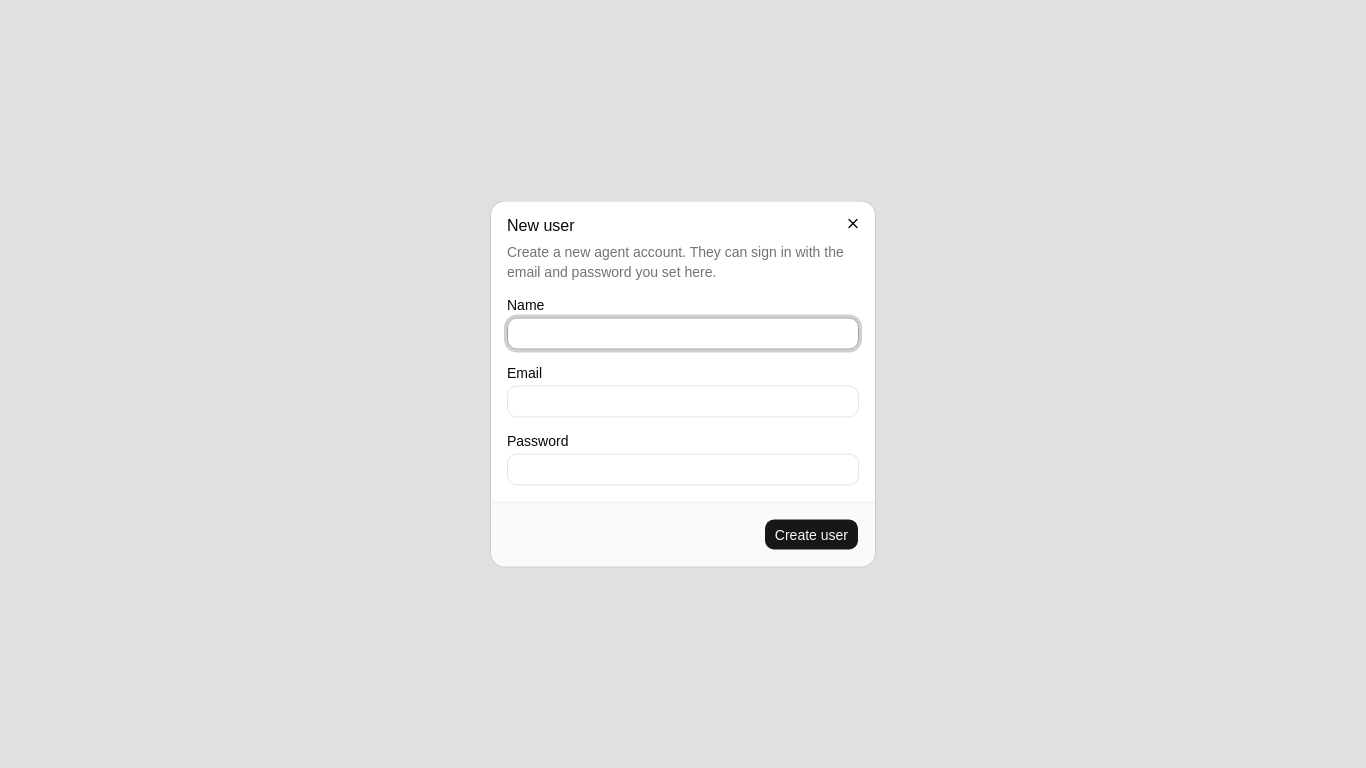
CreateUserDialog › shows the server error message when creation fails
The image size is (1366, 768).
In the field labelled "Name": (683,334) [507,318,859,350], type "Ada Lovelace"
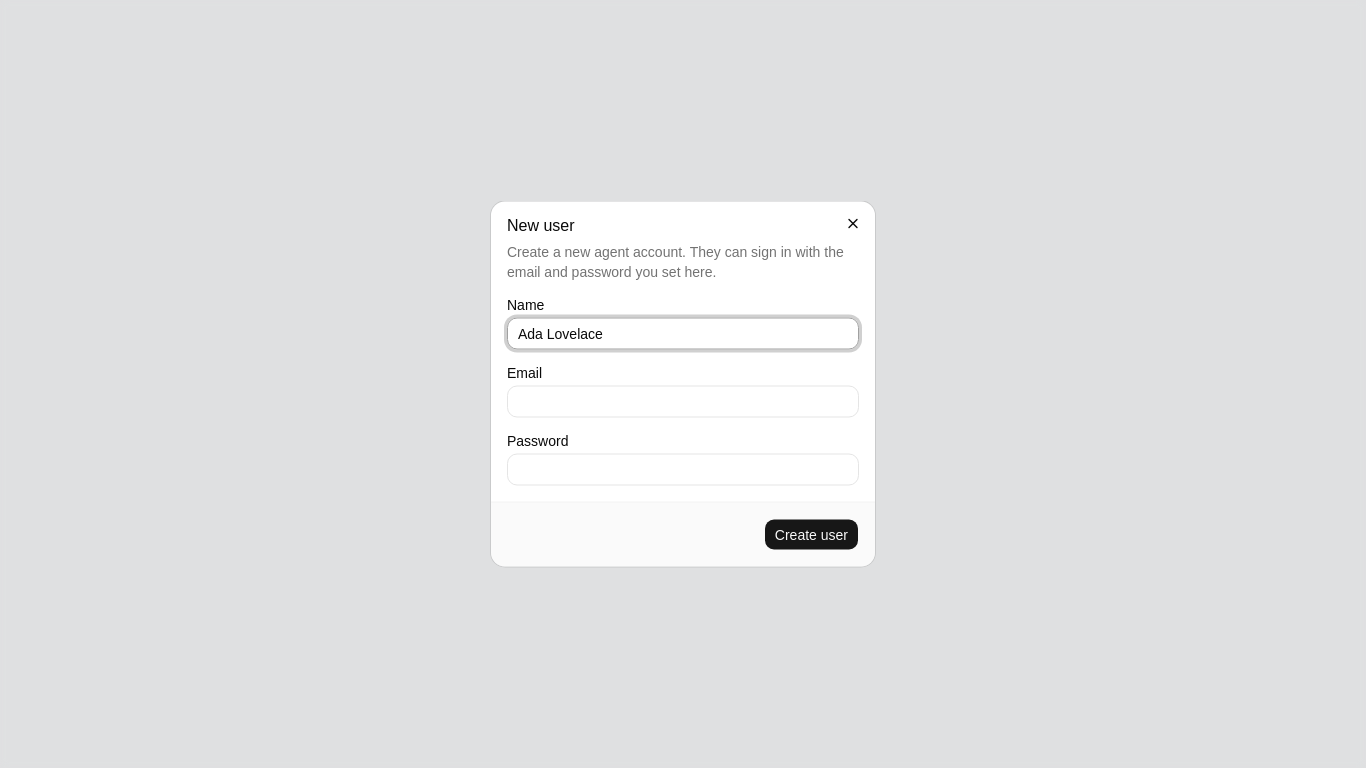
In the field labelled "Email": (683,402) [507,386,859,418], type "ada@example.com"
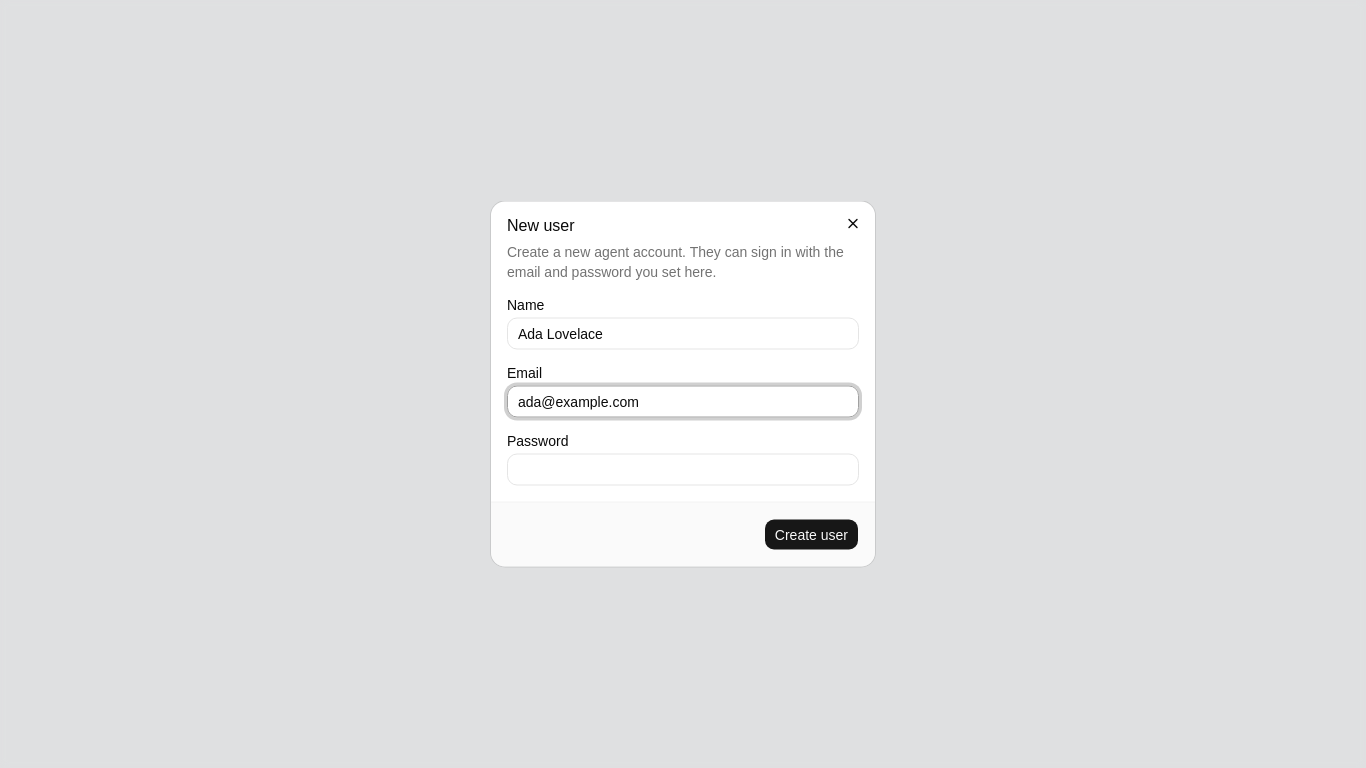
In the password field labelled "Password": (683,470) [507,454,859,486], type "password123"
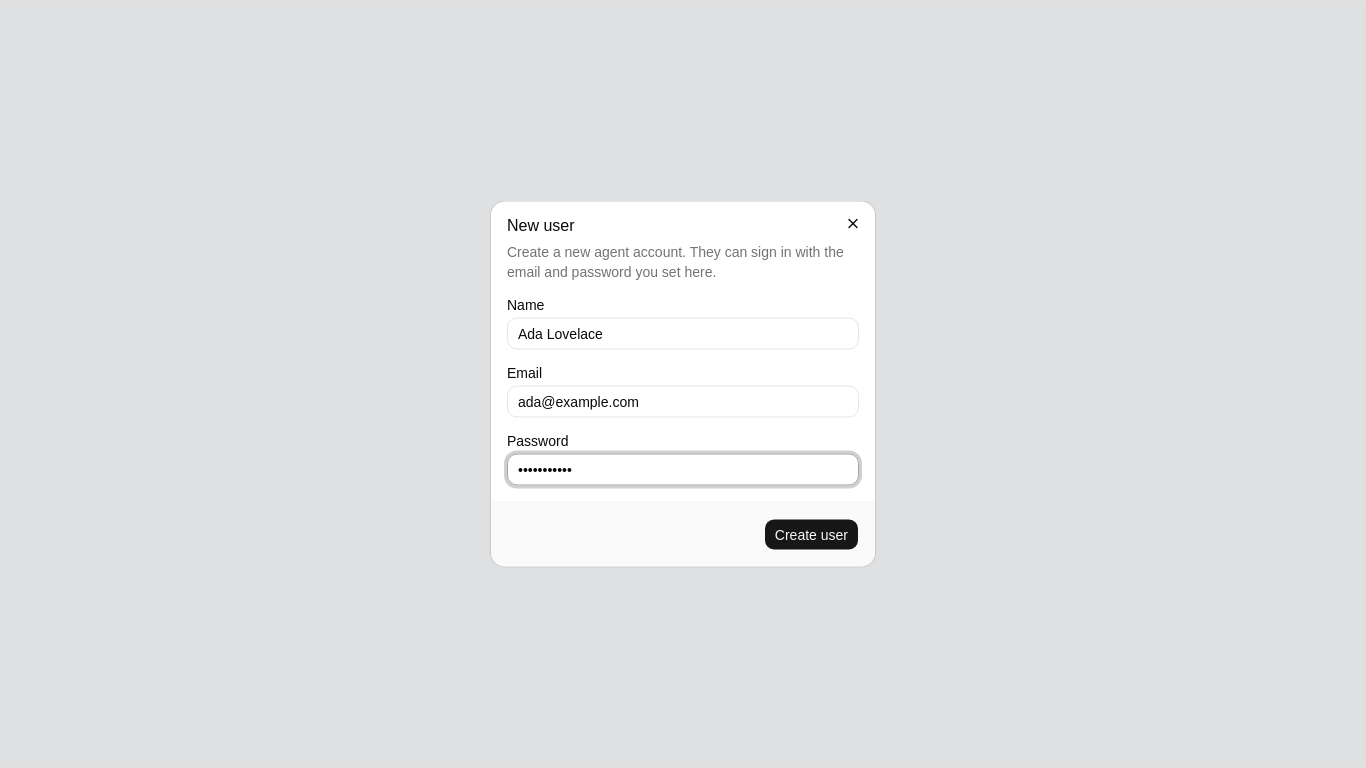
Click the button "Create user": (811,534) [764,518,859,550]
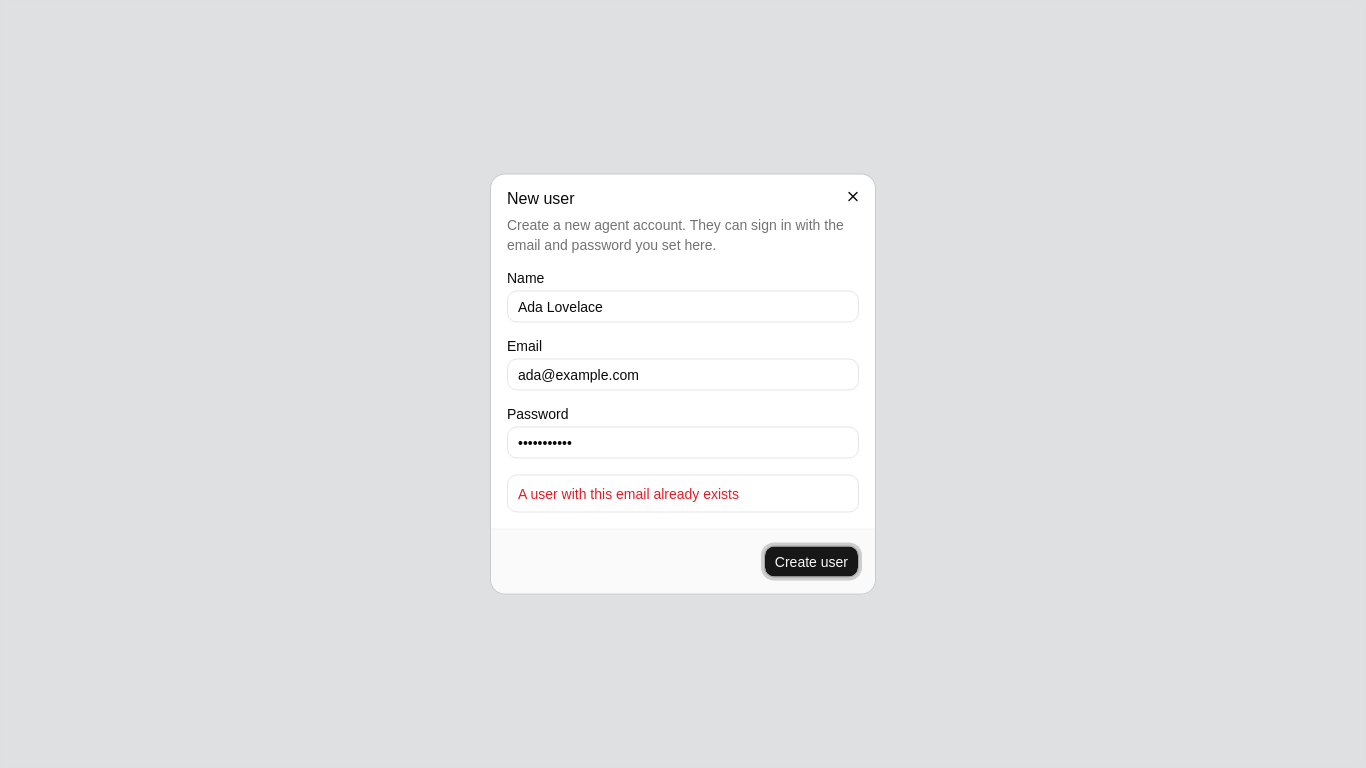
Result: the text "A user with this email already exists" is shown at [518,486,739,502]
